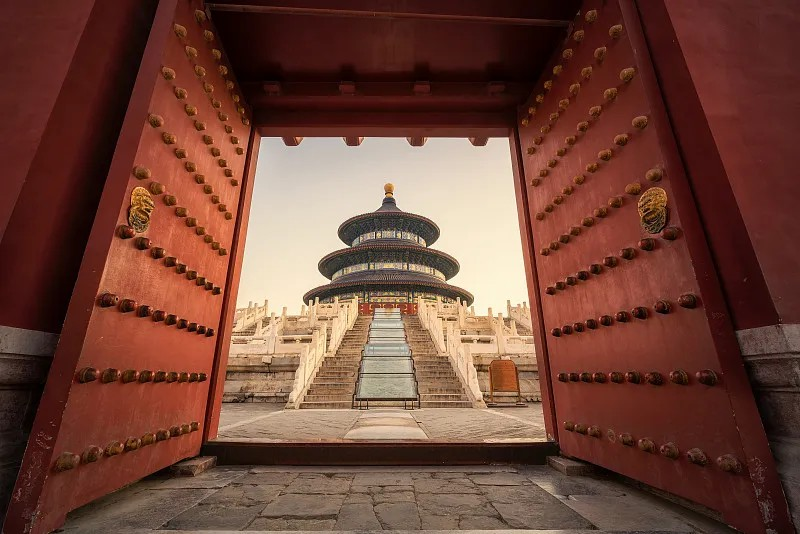Heaven: (302, 183, 475, 315)
